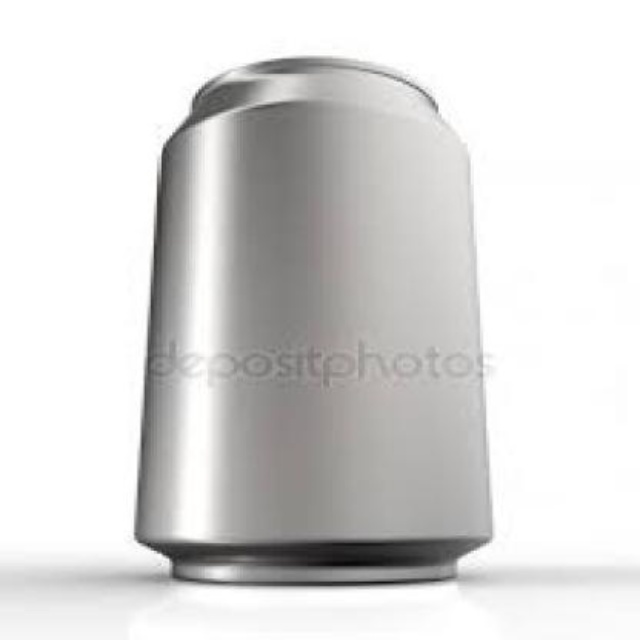trash: (135, 57, 491, 582)
